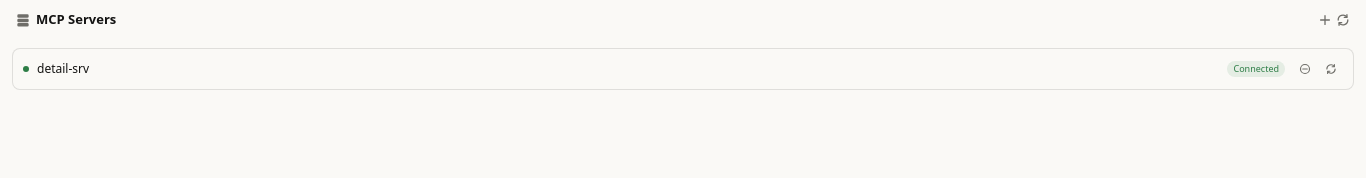
Scenario: McpSection server row expansion › expands to show config details when server name is clicked
// Click the server name to expand
Click the button "detail-srv": [63, 68] box x1=37 y1=60 x2=1220 y2=78
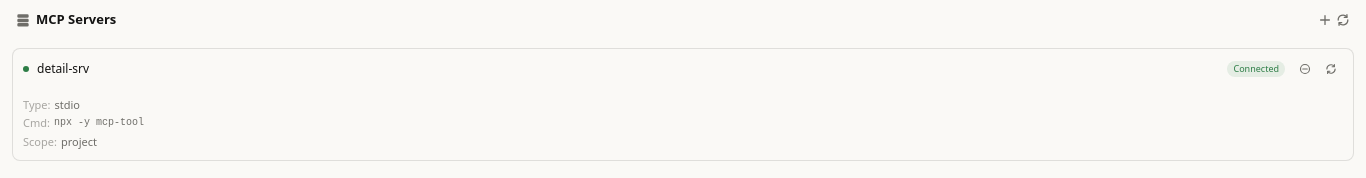
Result: the text "stdio" is shown at x1=54 y1=96 x2=80 y2=113
Result: the text "npx -y mcp-tool" is shown at x1=54 y1=115 x2=144 y2=130
Result: the text "project" is shown at x1=61 y1=134 x2=97 y2=150
